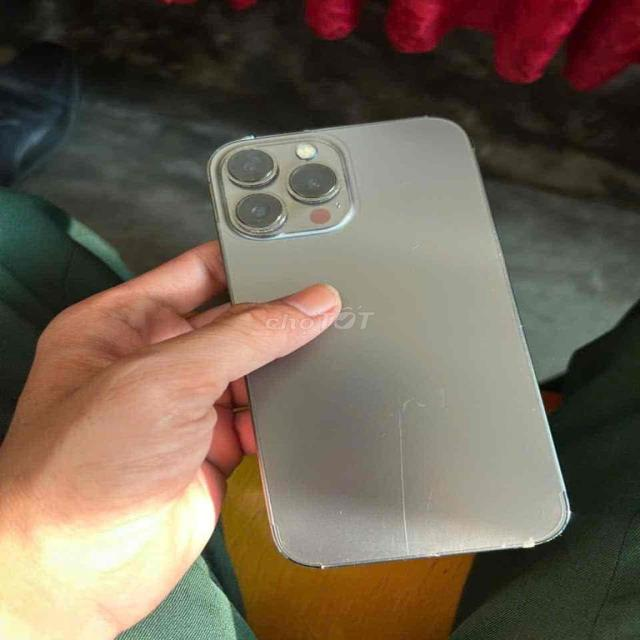gen_12_13: (188, 109, 578, 579)
